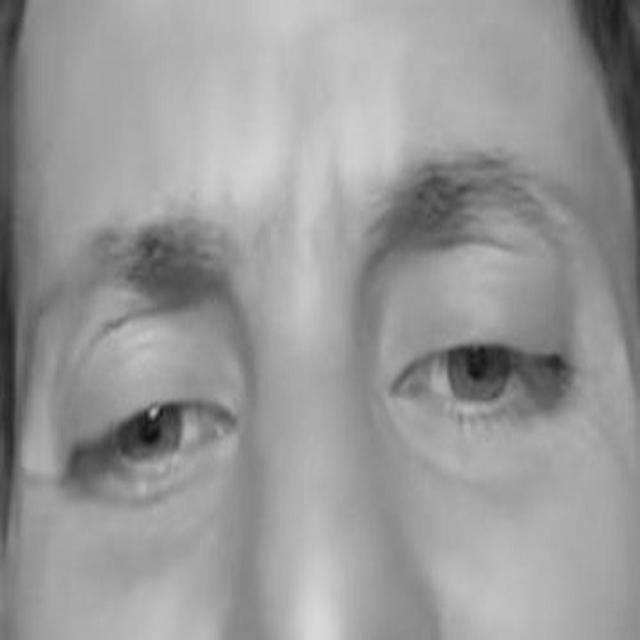real: (26, 210, 588, 550)
